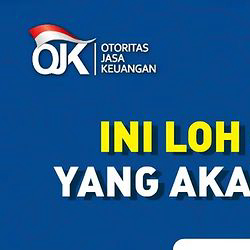ojk: (27, 23, 158, 75)
